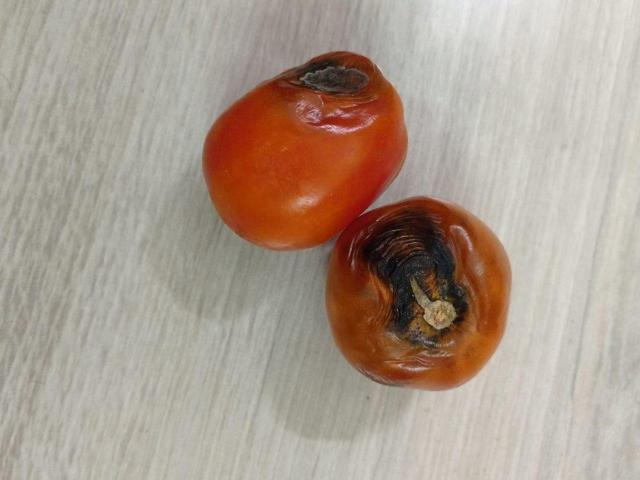defect: (200, 51, 413, 251), (328, 191, 514, 392)
